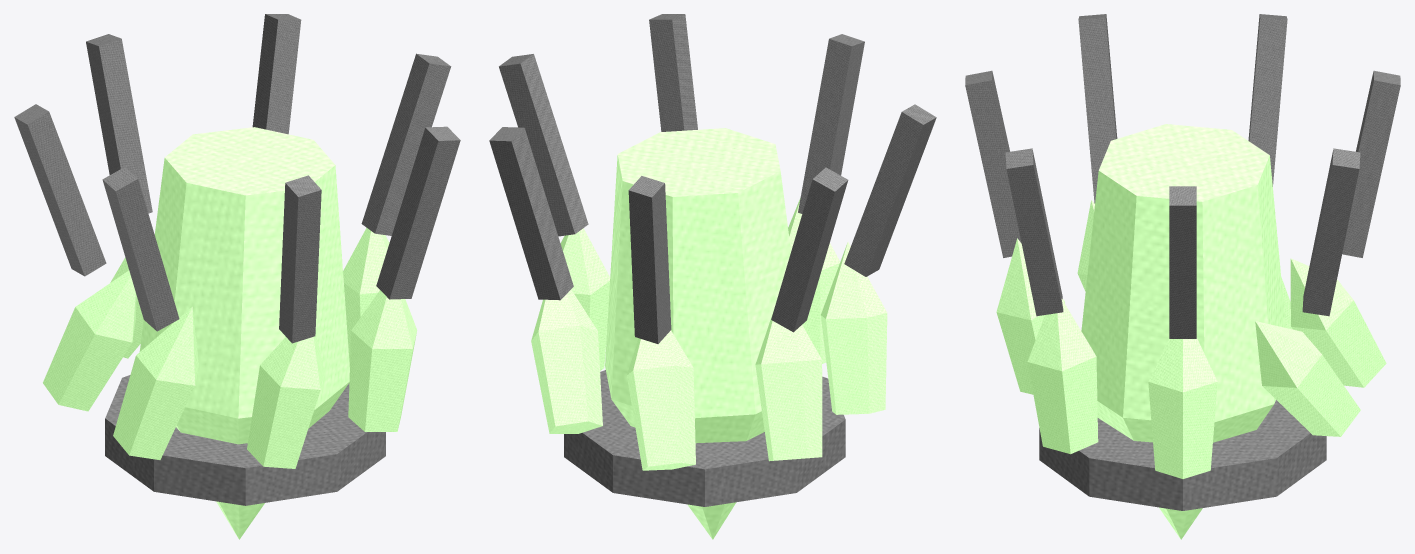
The model's file is boss-bonemass-rotheart.glb.
3 views of the same model, side by side, from view 1: azimuth 30°, elevation 25°; view 2: azimuth 150°, elevation 25°; view 3: azimuth 270°, elevation 25° (orthographic). The views are drawn at different scales.
Visible parts, largest first — view 1: rot-core, rot-band, rot-nodule-3, rot-nodule-4, rot-nodule-1, rot-nodule-2, thorn-1, thorn-0, thorn-4, thorn-2, thorn-3, thorn-5 (+3 smaller); view 2: rot-core, rot-band, rot-nodule-3, rot-nodule-6, rot-nodule-4, rot-nodule-5, thorn-6, thorn-0, thorn-3, thorn-5, thorn-4, thorn-2 (+3 smaller); view 3: rot-core, rot-band, rot-nodule-0, rot-nodule-1, rot-nodule-6, rot-nodule-5, thorn-6, thorn-1, thorn-5, thorn-2, thorn-0, thorn-3 (+3 smaller).
Part boxes in pixels (left/top/right/bottom): rot-core: left=139, top=127, right=349, bottom=539; rot-band: left=105, top=375, right=385, bottom=505; rot-nodule-3: left=113, top=306, right=198, bottom=459; rot-nodule-4: left=43, top=270, right=136, bottom=411; rot-nodule-1: left=348, top=290, right=417, bottom=431; rot-nodule-2: left=247, top=334, right=324, bottom=468; thorn-1: left=376, top=126, right=460, bottom=299; thorn-0: left=361, top=53, right=451, bottom=235; thorn-4: left=14, top=104, right=106, bottom=276; thorn-2: left=279, top=175, right=321, bottom=343; thorn-3: left=102, top=167, right=179, bottom=331; thorn-5: left=86, top=34, right=152, bottom=213; rot-core: left=605, top=128, right=790, bottom=539; rot-band: left=564, top=370, right=845, bottom=506; rot-nodule-3: left=820, top=242, right=887, bottom=414; rot-nodule-6: left=531, top=289, right=602, bottom=433; rot-nodule-4: left=755, top=313, right=822, bottom=461; rot-nodule-5: left=627, top=330, right=695, bottom=470; thorn-6: left=489, top=127, right=573, bottom=300; thorn-0: left=499, top=54, right=588, bottom=236; thorn-3: left=844, top=104, right=936, bottom=276; thorn-5: left=628, top=176, right=671, bottom=343; thorn-4: left=771, top=167, right=848, bottom=332; thorn-2: left=798, top=34, right=864, bottom=213; rot-core: left=1081, top=124, right=1285, bottom=539; rot-band: left=1039, top=400, right=1326, bottom=510; rot-nodule-0: left=1148, top=338, right=1217, bottom=478; rot-nodule-1: left=1027, top=299, right=1098, bottom=454; rot-nodule-6: left=1255, top=321, right=1360, bottom=436; rot-nodule-5: left=1290, top=258, right=1386, bottom=387; thorn-6: left=1302, top=148, right=1360, bottom=316; thorn-1: left=1005, top=148, right=1063, bottom=316; thorn-5: left=1342, top=70, right=1400, bottom=257; thorn-2: left=965, top=70, right=1021, bottom=257; thorn-0: left=1169, top=186, right=1196, bottom=338; thorn-3: left=1078, top=14, right=1117, bottom=203.
Bounding box in the file's own units: 0.7376 × 0.8135 × 0.7168.
Materials: 4 (4 with a texture image).
